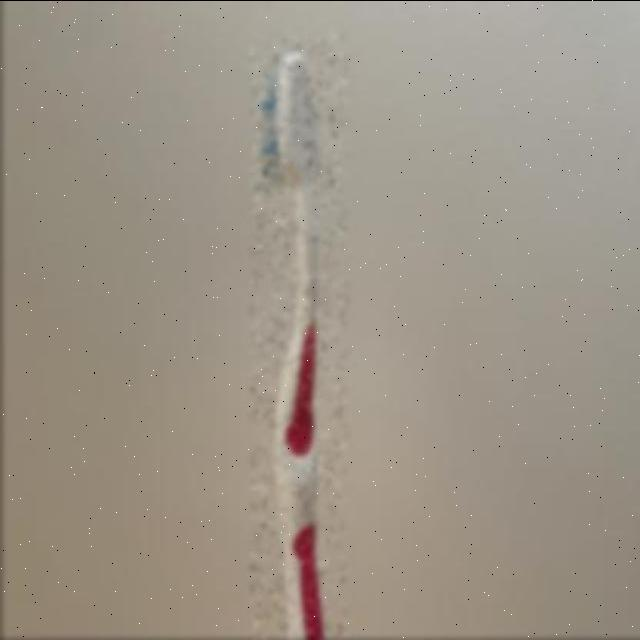toothbrush: (250, 34, 346, 640)
